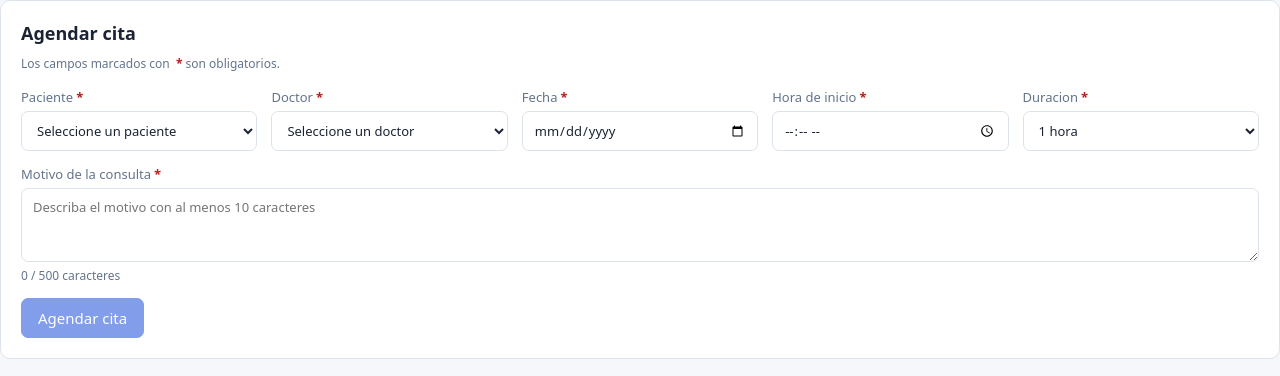
Test: AppointmentForm › avisa cuando el motivo aun es demasiado corto
Type "gripa" into the text box labelled "Motivo de la consulta* 0 / 500 caracteres". click: (640, 225)
box: [21,188,1259,262]
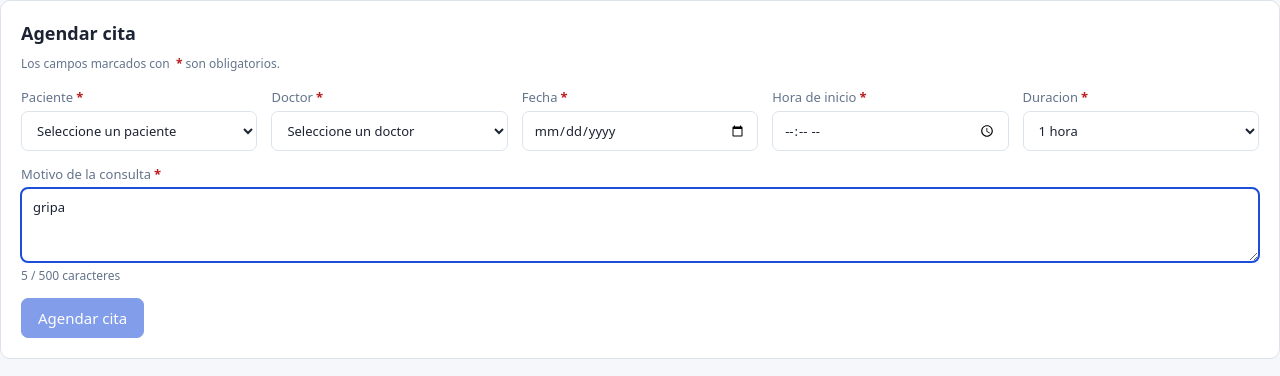
Press Tab
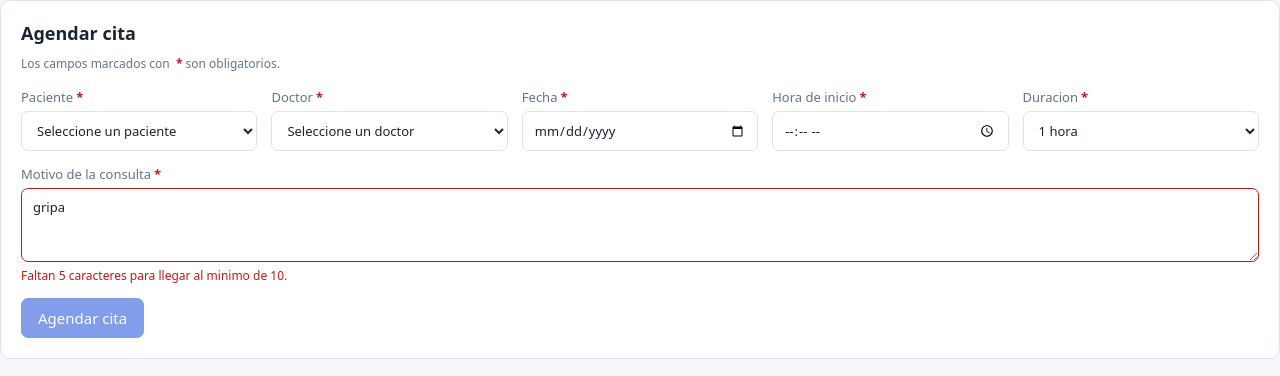
Expected: the text "Faltan 5 caracteres para llegar al minimo de 10." is shown, [21,267,287,284]
